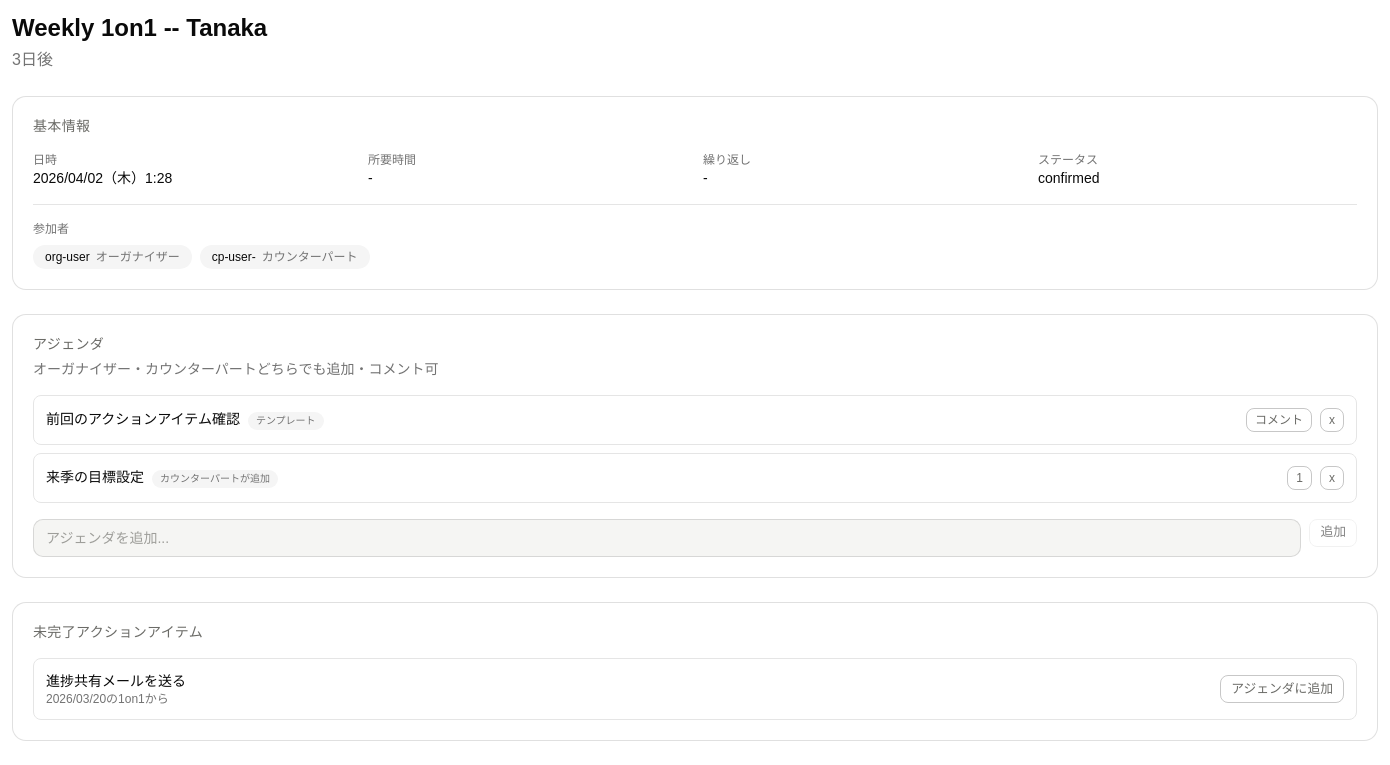
it: PreparationPage › shows comments when clicking comment toggle
Click the button "1" at (1300, 478), box 1287,466 -> 1312,490
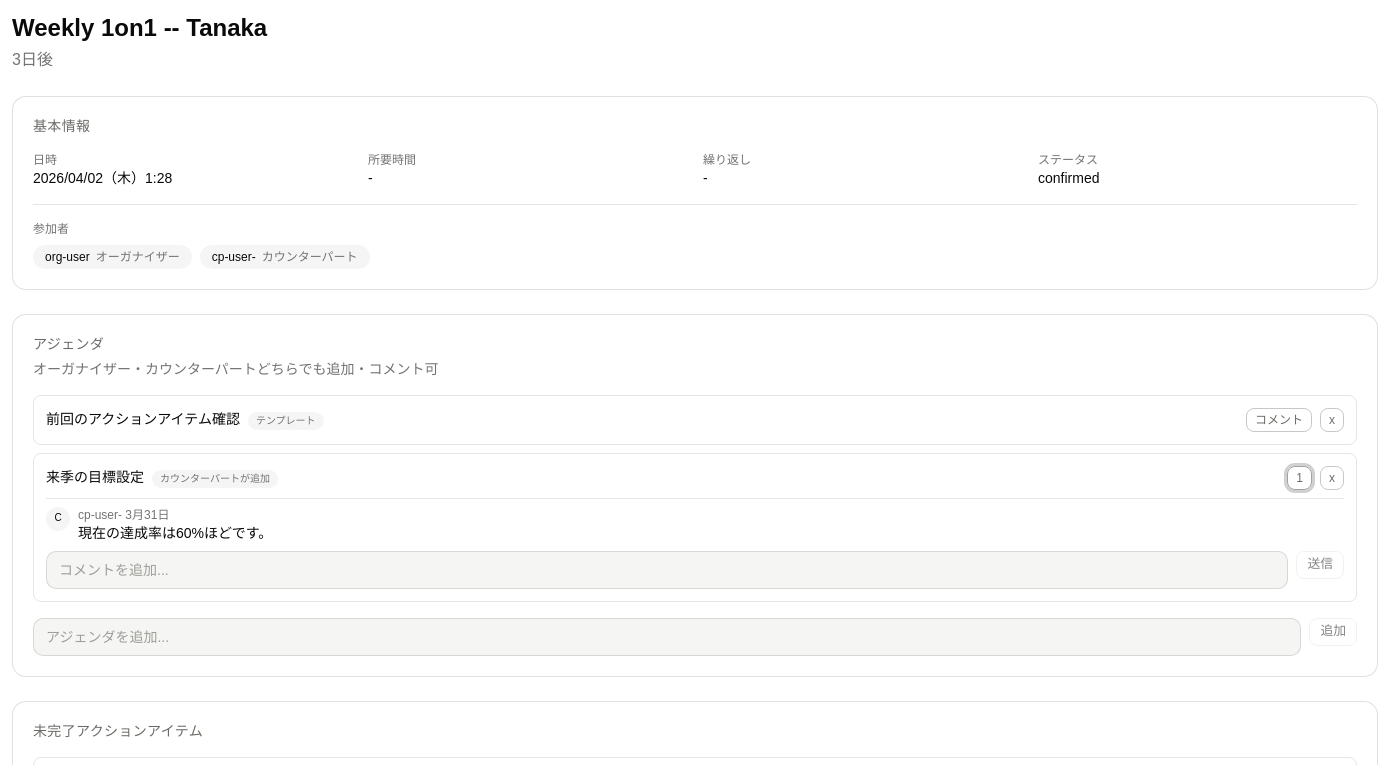
expect the text "現在の達成率は60%ほどです。" is shown: met, box 78,524 -> 272,540
